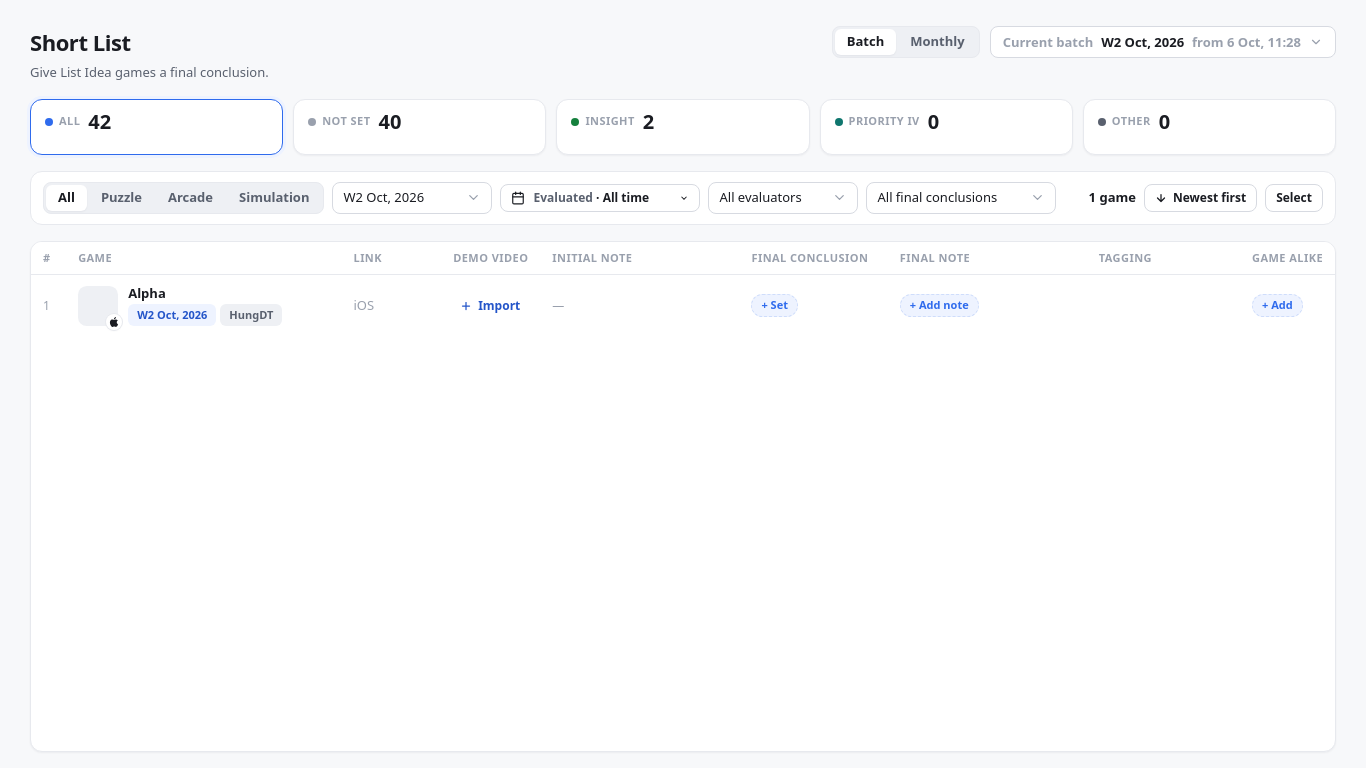
Scenario: Short List / Monthly views › shows when the current batch starts on the header button, and offers it in the popover
Expected: the text "Alpha" is shown, top-left (128, 285), bottom-right (166, 302)
Click the button "Current batch W2 Oct, 2026 from 6 Oct, 11:28" at (1163, 42), box top-left (990, 26), bottom-right (1336, 58)
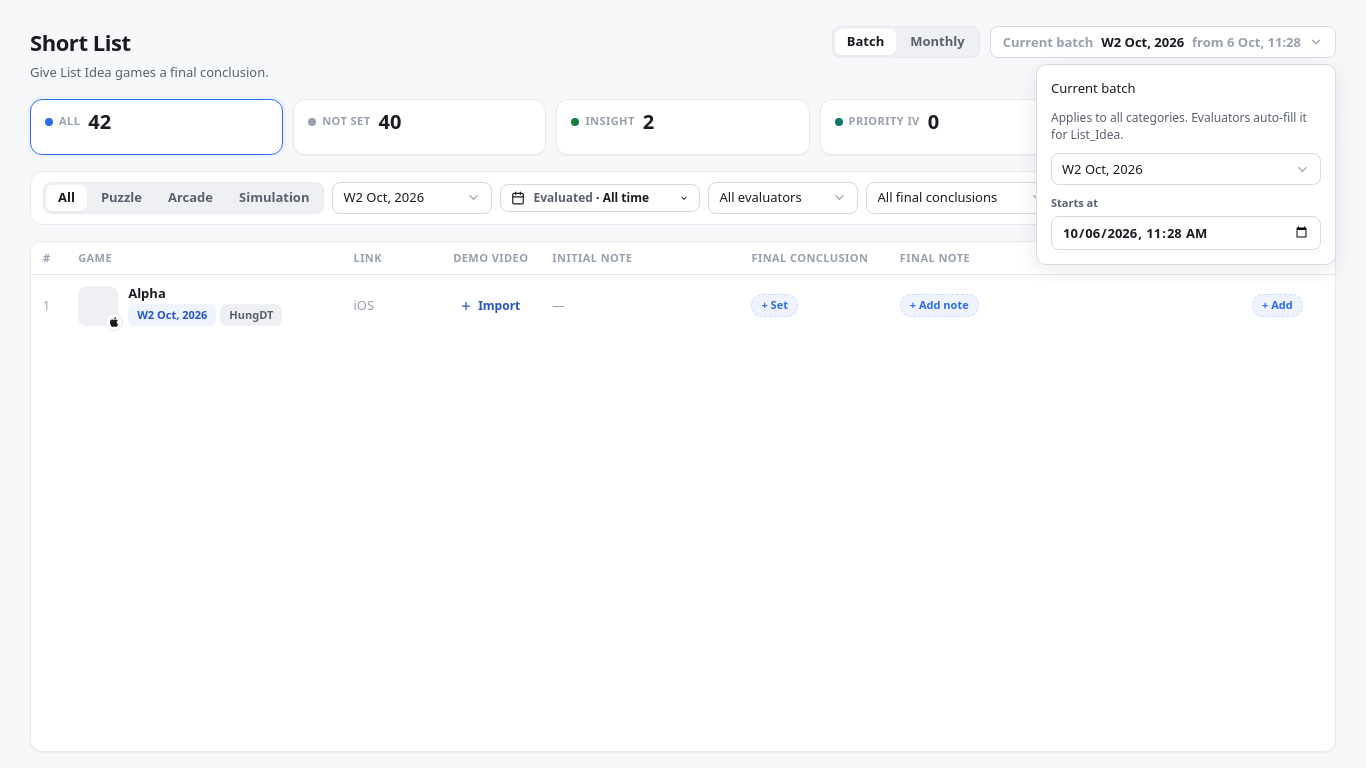
Expected: the field labelled "Starts at" holds "2026-10-06T11:28", top-left (1051, 216), bottom-right (1321, 250)
